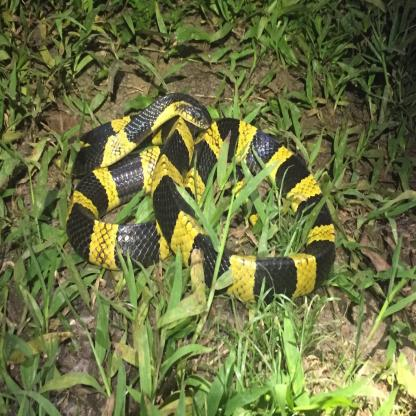Snake: (66, 88, 336, 294)
